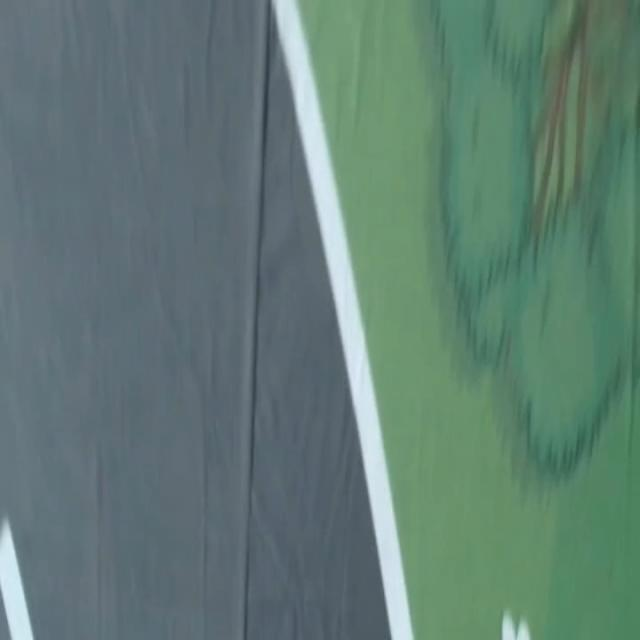center: (0, 521, 34, 639)
right: (273, 0, 413, 639)
